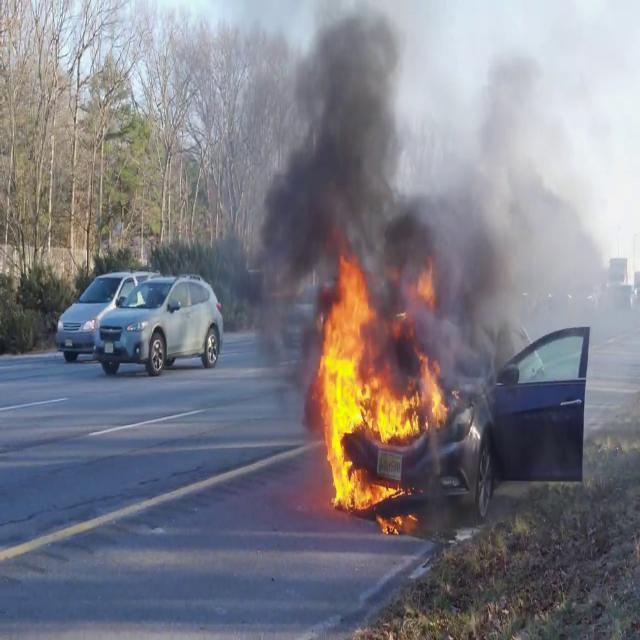Fire: (310, 254, 450, 516)
Smoke: (232, 1, 639, 390)
